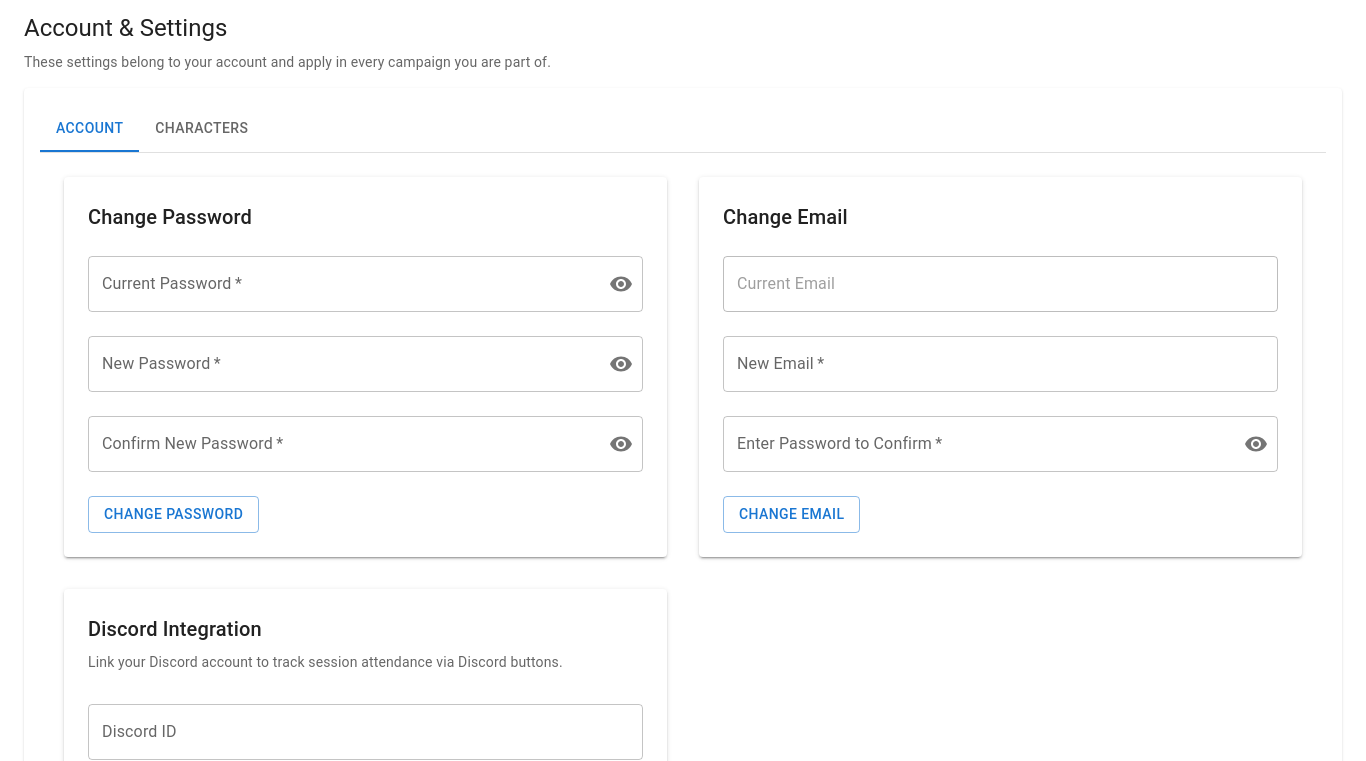
it: UserSettings › successfully changes password
This screenshot has width=1366, height=761.
Expected: the heading "Change Password" is shown, [88,205,252,229]
In the password field labelled "Current Password *": [340, 284] box [88,256,593,312], type "oldpass123"
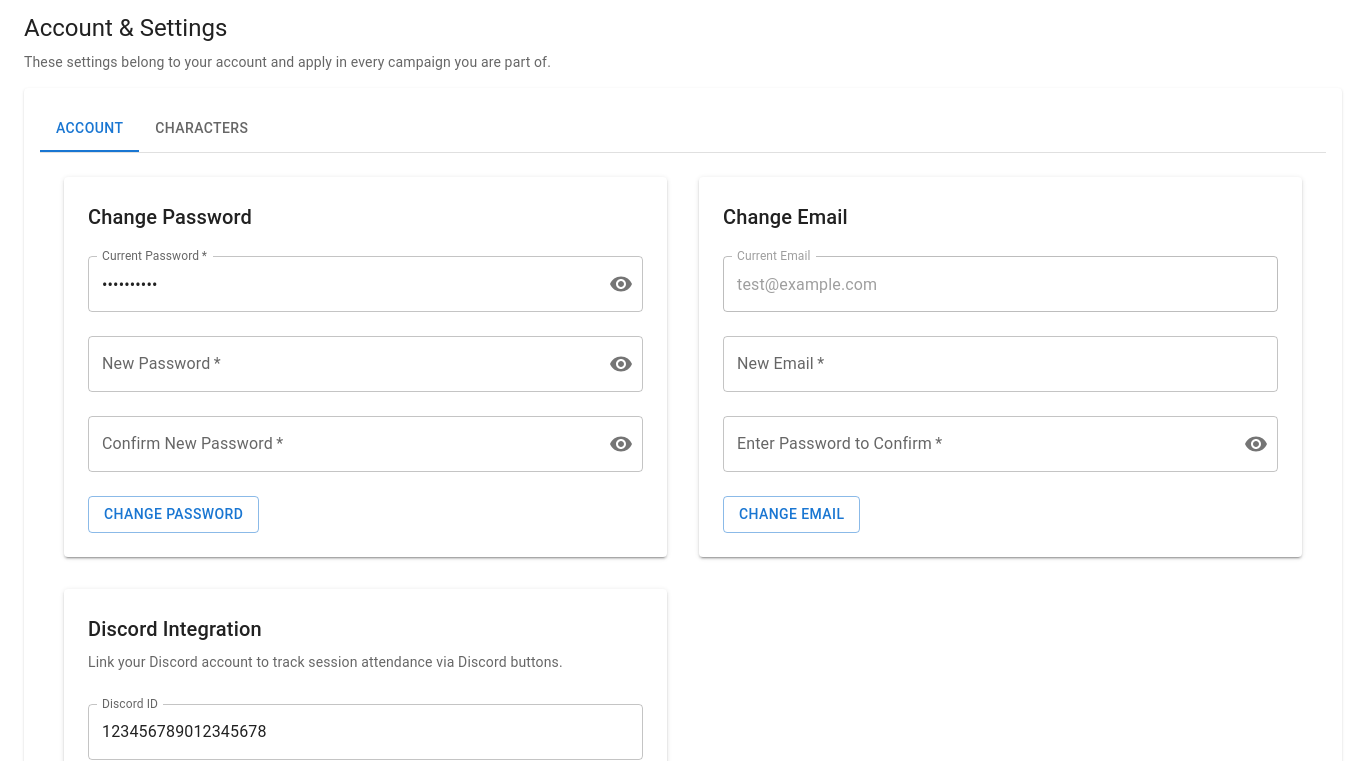
In the password field labelled "New Password *": [340, 364] box [88,336,593,392], type "newpassword123"
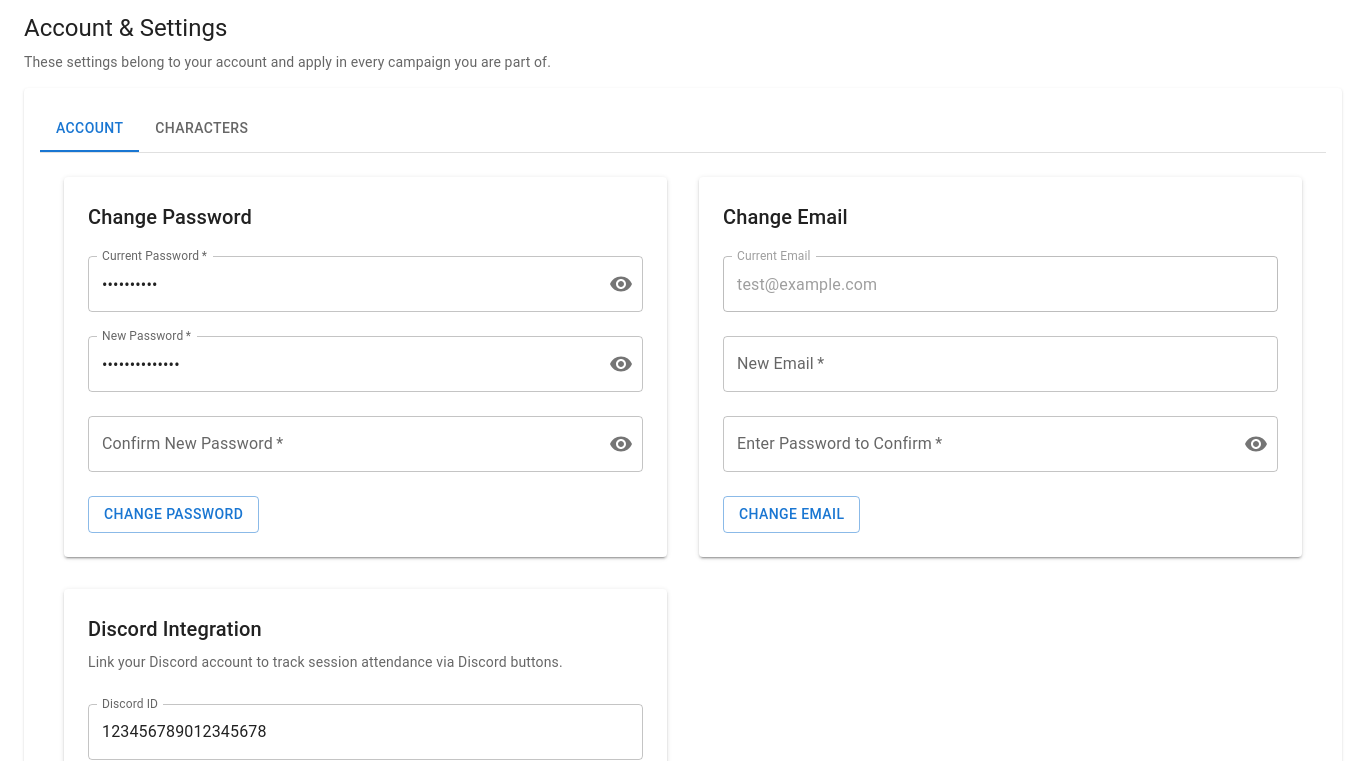
In the password field labelled "Confirm New Password *": [340, 444] box [88,416,593,472], type "newpassword123"
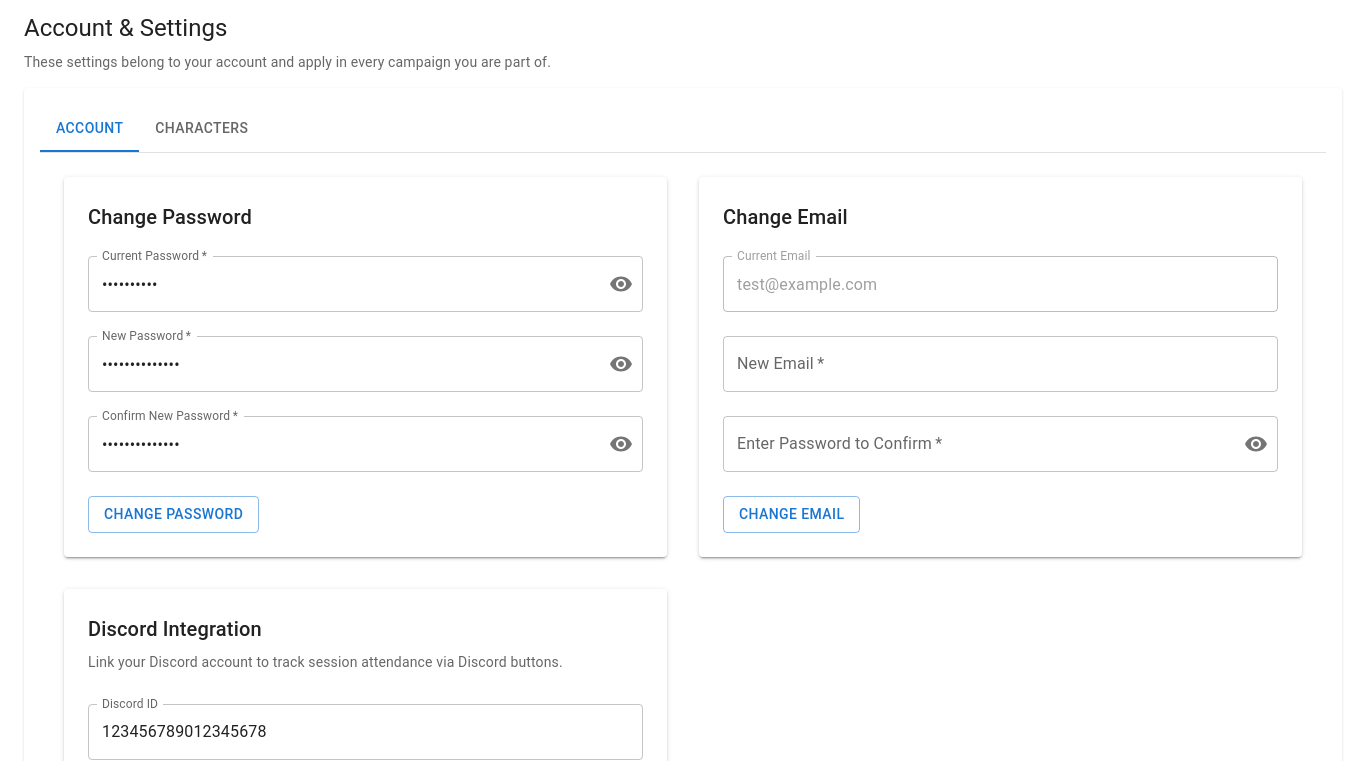
Click the button "Change Password": [174, 515] box [88,496,259,533]
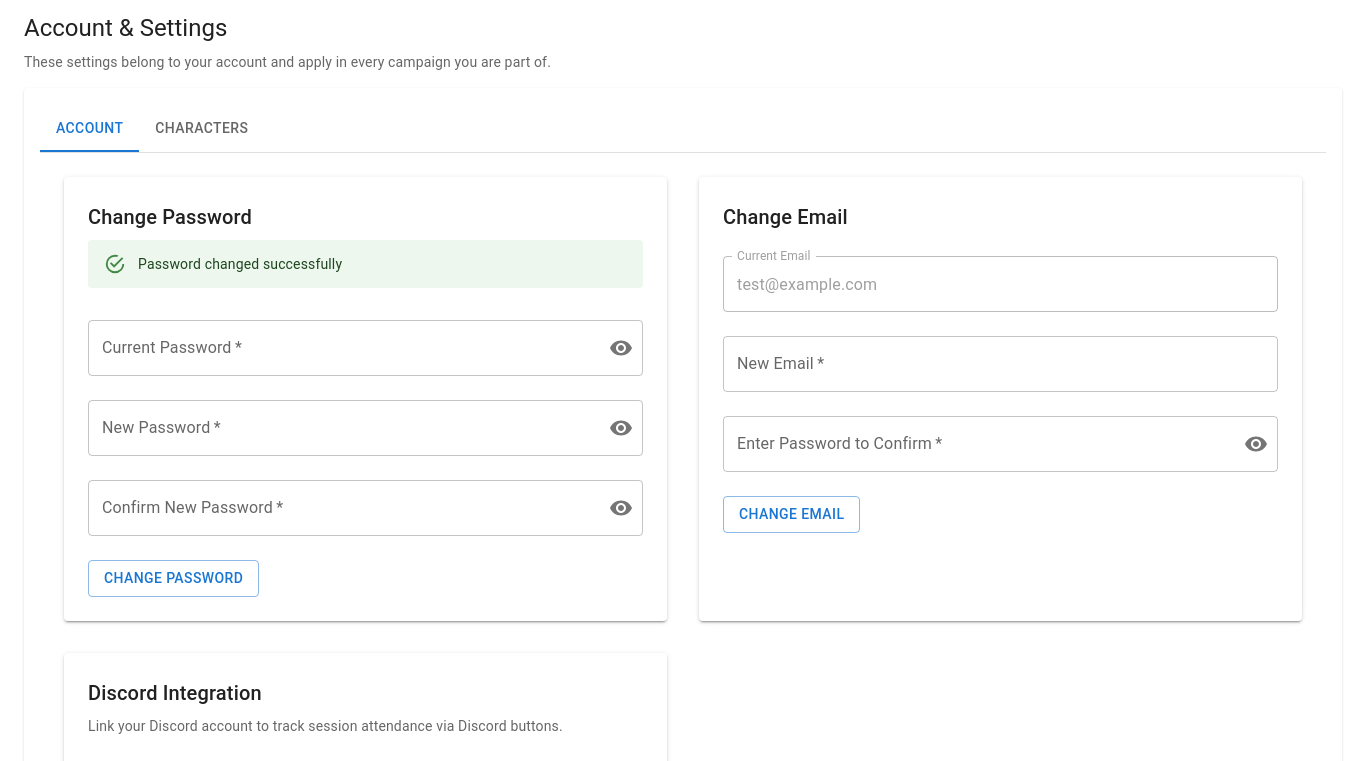
Now the text "Password changed successfully" is shown, box [138,256,342,272]
